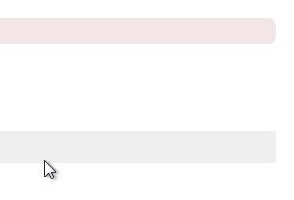cursor: (42, 158, 57, 180)
